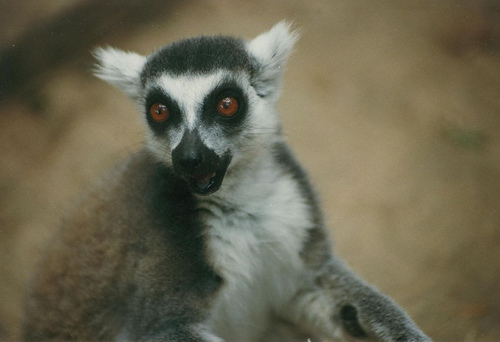cat: (15, 20, 430, 340)
